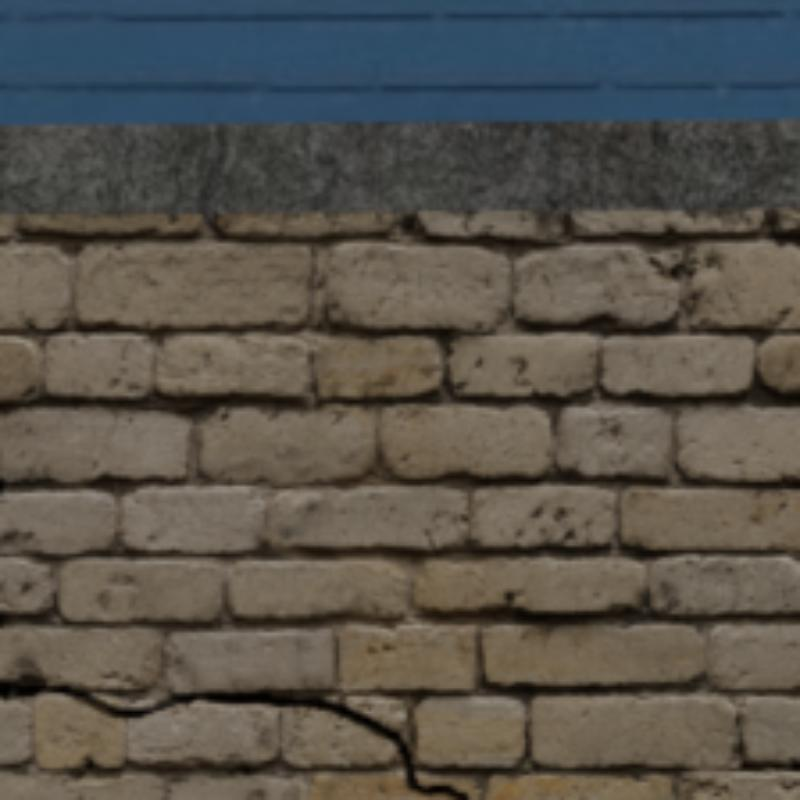pothole: (7, 682, 464, 796)
